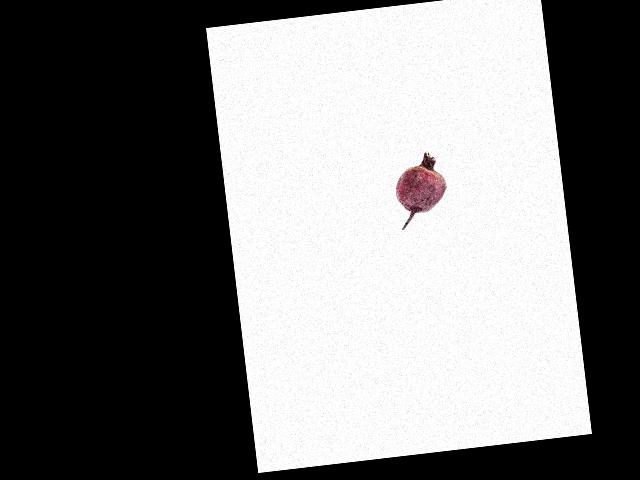beet: (391, 150, 449, 229)
